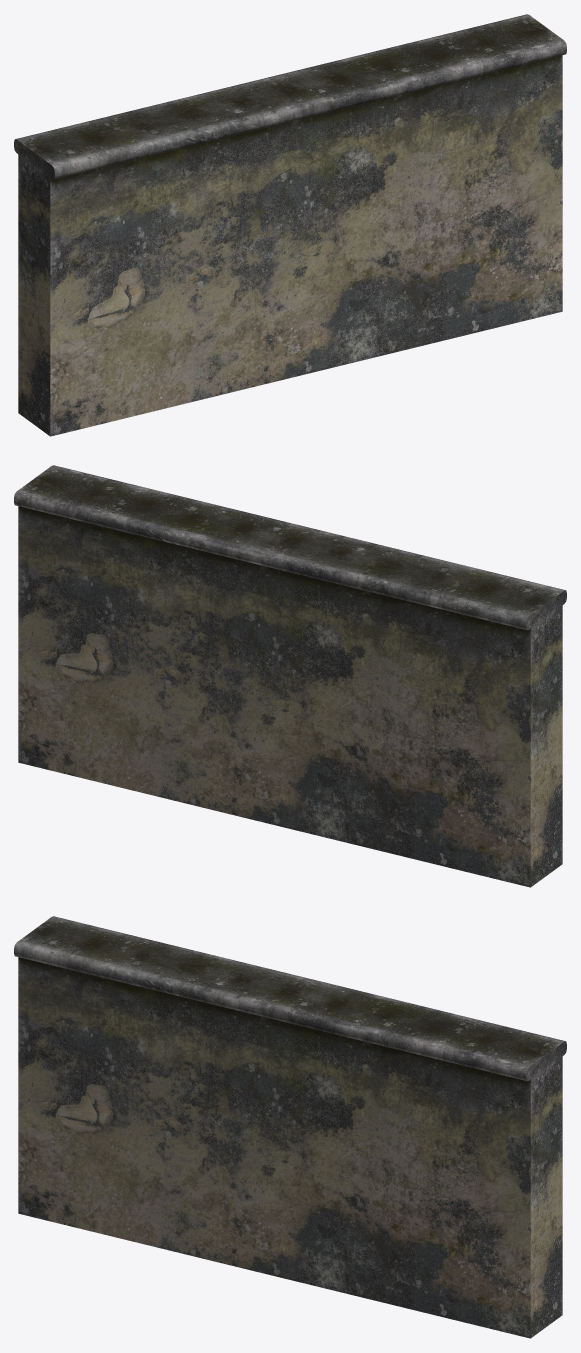
The model's file is SM_fence_27.fbx.
3 renders of one model, top to bottom at view 1: azimuth 30°, elevation 25°; view 2: azimuth 150°, elevation 25°; view 3: azimuth 330°, elevation 25°, orthographic.
Visible parts, largest first — view 1: SM_fence_27; view 2: SM_fence_27; view 3: SM_fence_27.
Part boxes in pixels (x1,y1,x2,y2): SM_fence_27: (14, 14, 566, 436); SM_fence_27: (14, 465, 566, 887); SM_fence_27: (14, 916, 566, 1338).
Bounding box in the file's own units: 340 × 173 × 46.92.
